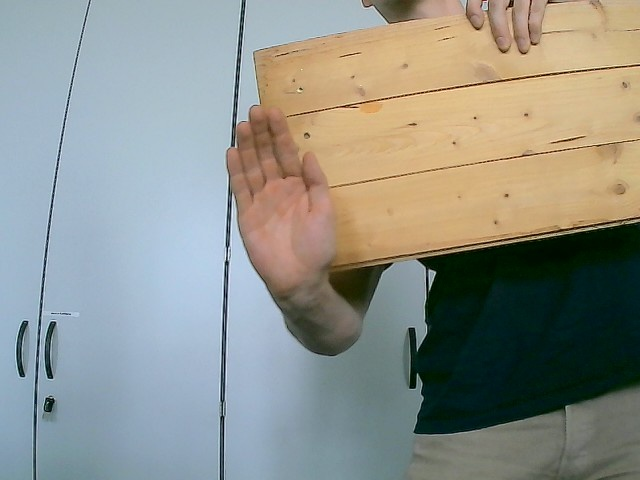stop: (225, 103, 338, 300)
